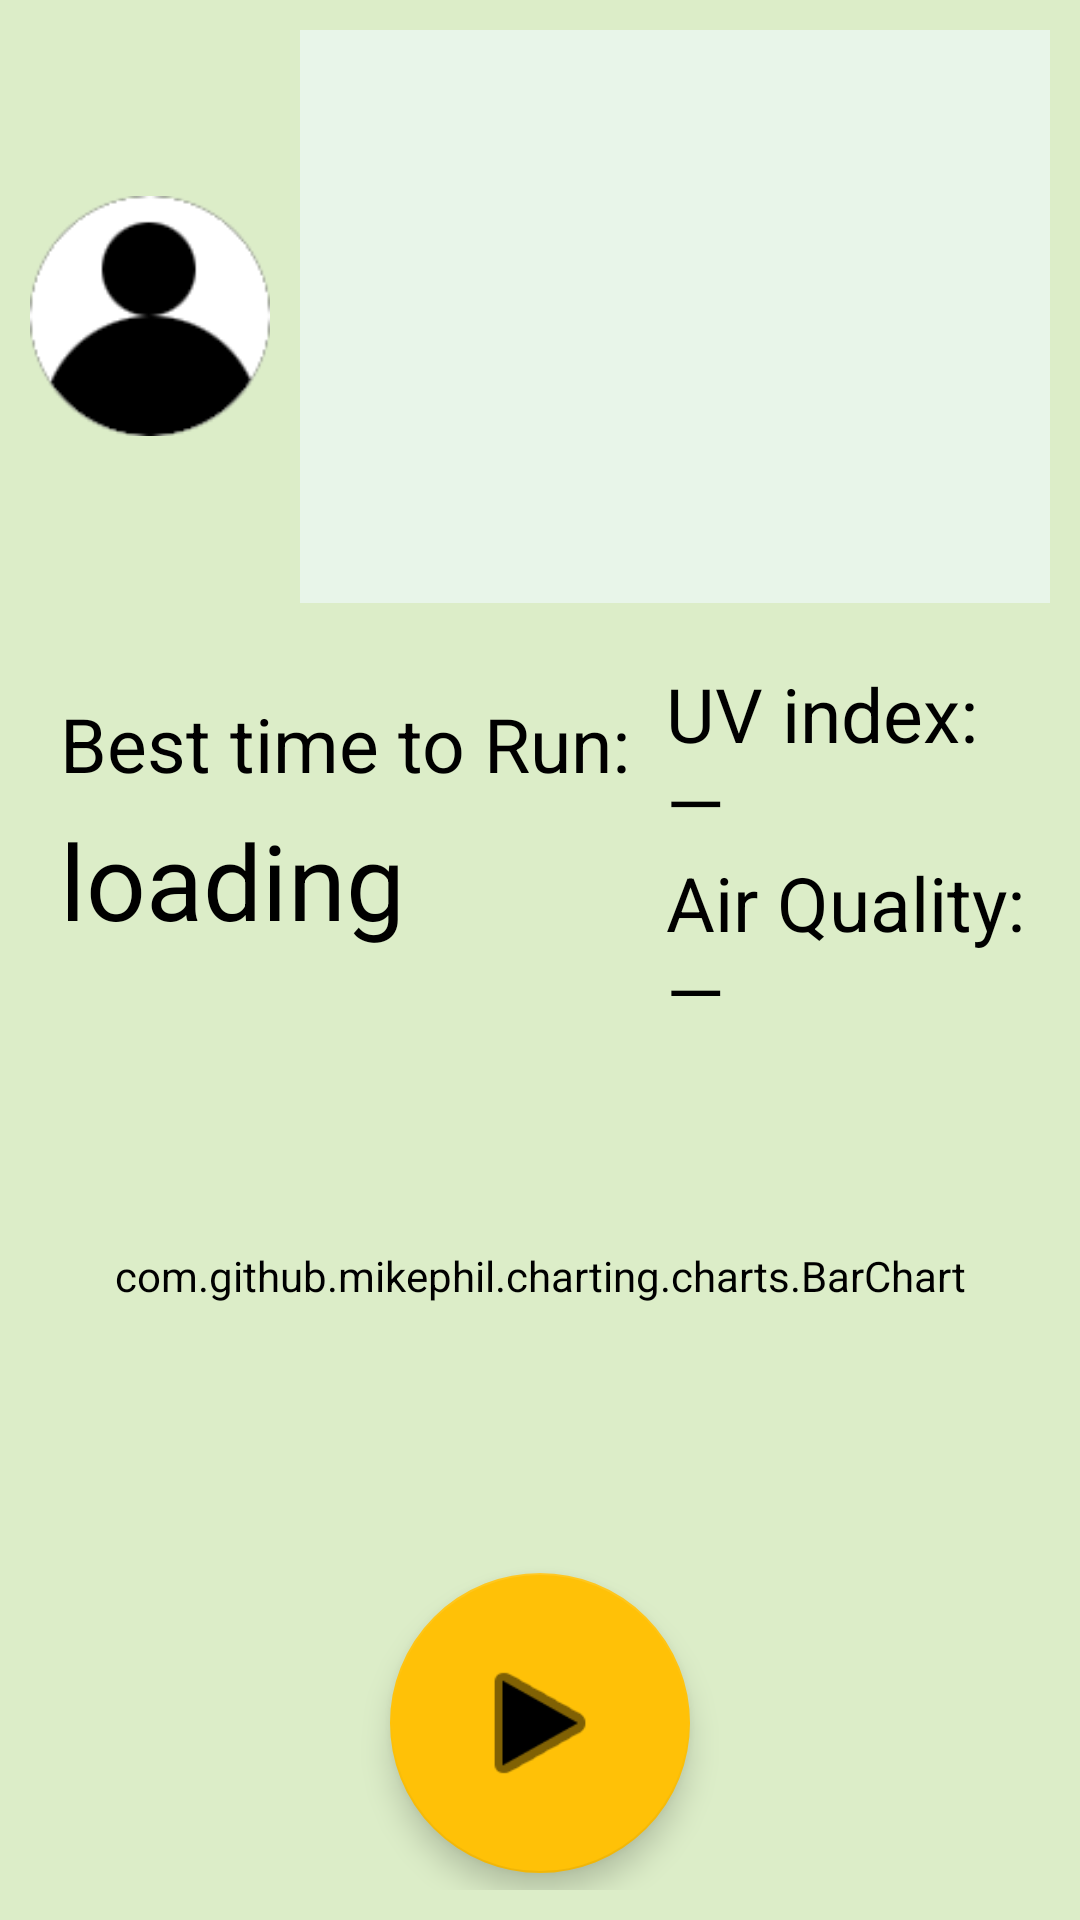

Point at icon controls on the screen. Image size 1080w x 1920h, points as (x,y).
start button: (540,1723)
user: (150,316)
